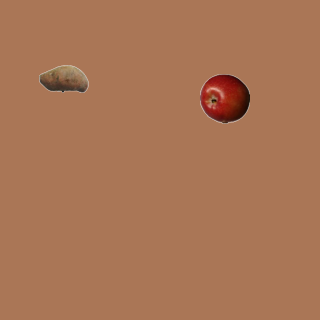Apple Braeburn: (199, 73, 249, 123)
Potato Sweet: (38, 53, 88, 103)
